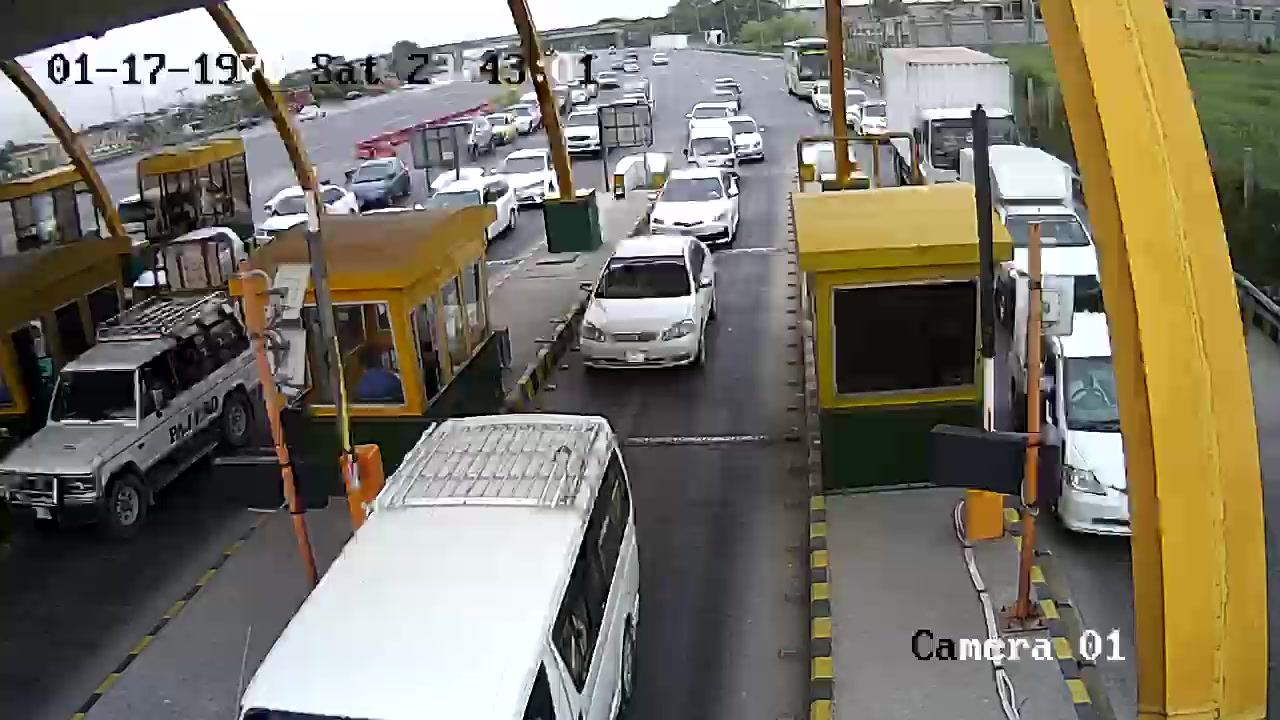F1: (572, 229, 728, 382)
